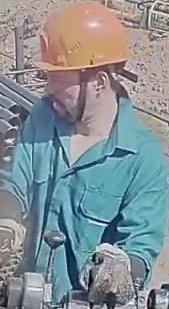gloves: (78, 242, 146, 308)
helmet: (35, 1, 131, 71)
vest: (3, 92, 169, 290)
